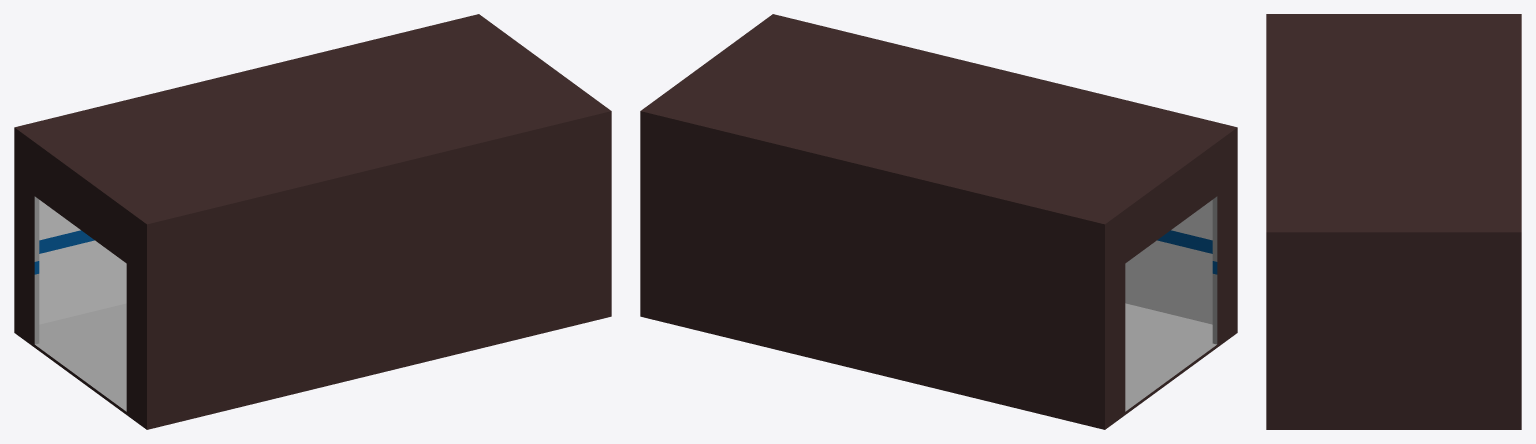
The model's file is Garage.fbx.
3 views of the same model, side by side, from view 1: azimuth 30°, elevation 25°; view 2: azimuth 150°, elevation 25°; view 3: azimuth 270°, elevation 25° (orthographic). The views are drawn at different scales.
Visible parts, largest first — view 1: Garage; view 2: Garage; view 3: Garage.
Part boxes in pixels (x1,y1,x2,y2): Garage: (14,14,611,429); Garage: (640,14,1237,429); Garage: (1266,14,1521,429).
Bounding box in the file's own units: 1200 × 507 × 593.
